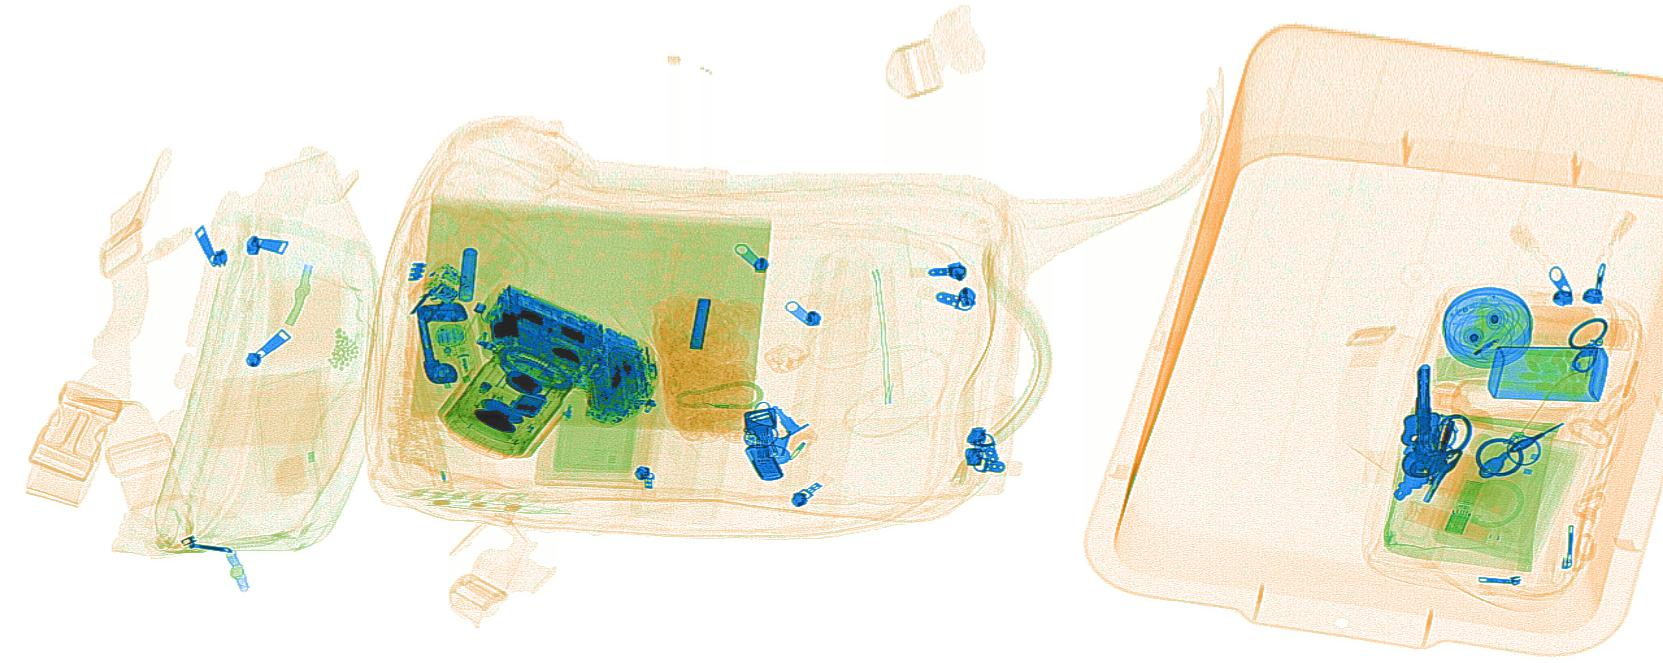USBFlashDisk: (1441, 476, 1486, 535), (743, 442, 784, 481)
